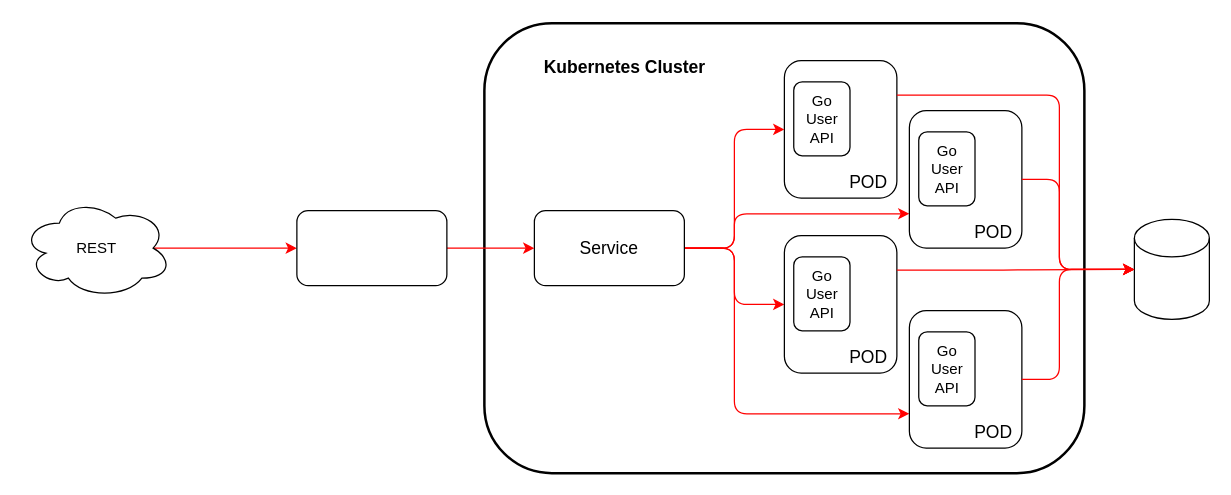
Some shapes in this 1231 by 495 pixel diagram are drawn without their labels. The centre of each missing label's shape, as x and y in pixels:
Load Balancer: point (371, 247)
MySQL: point (1171, 268)
